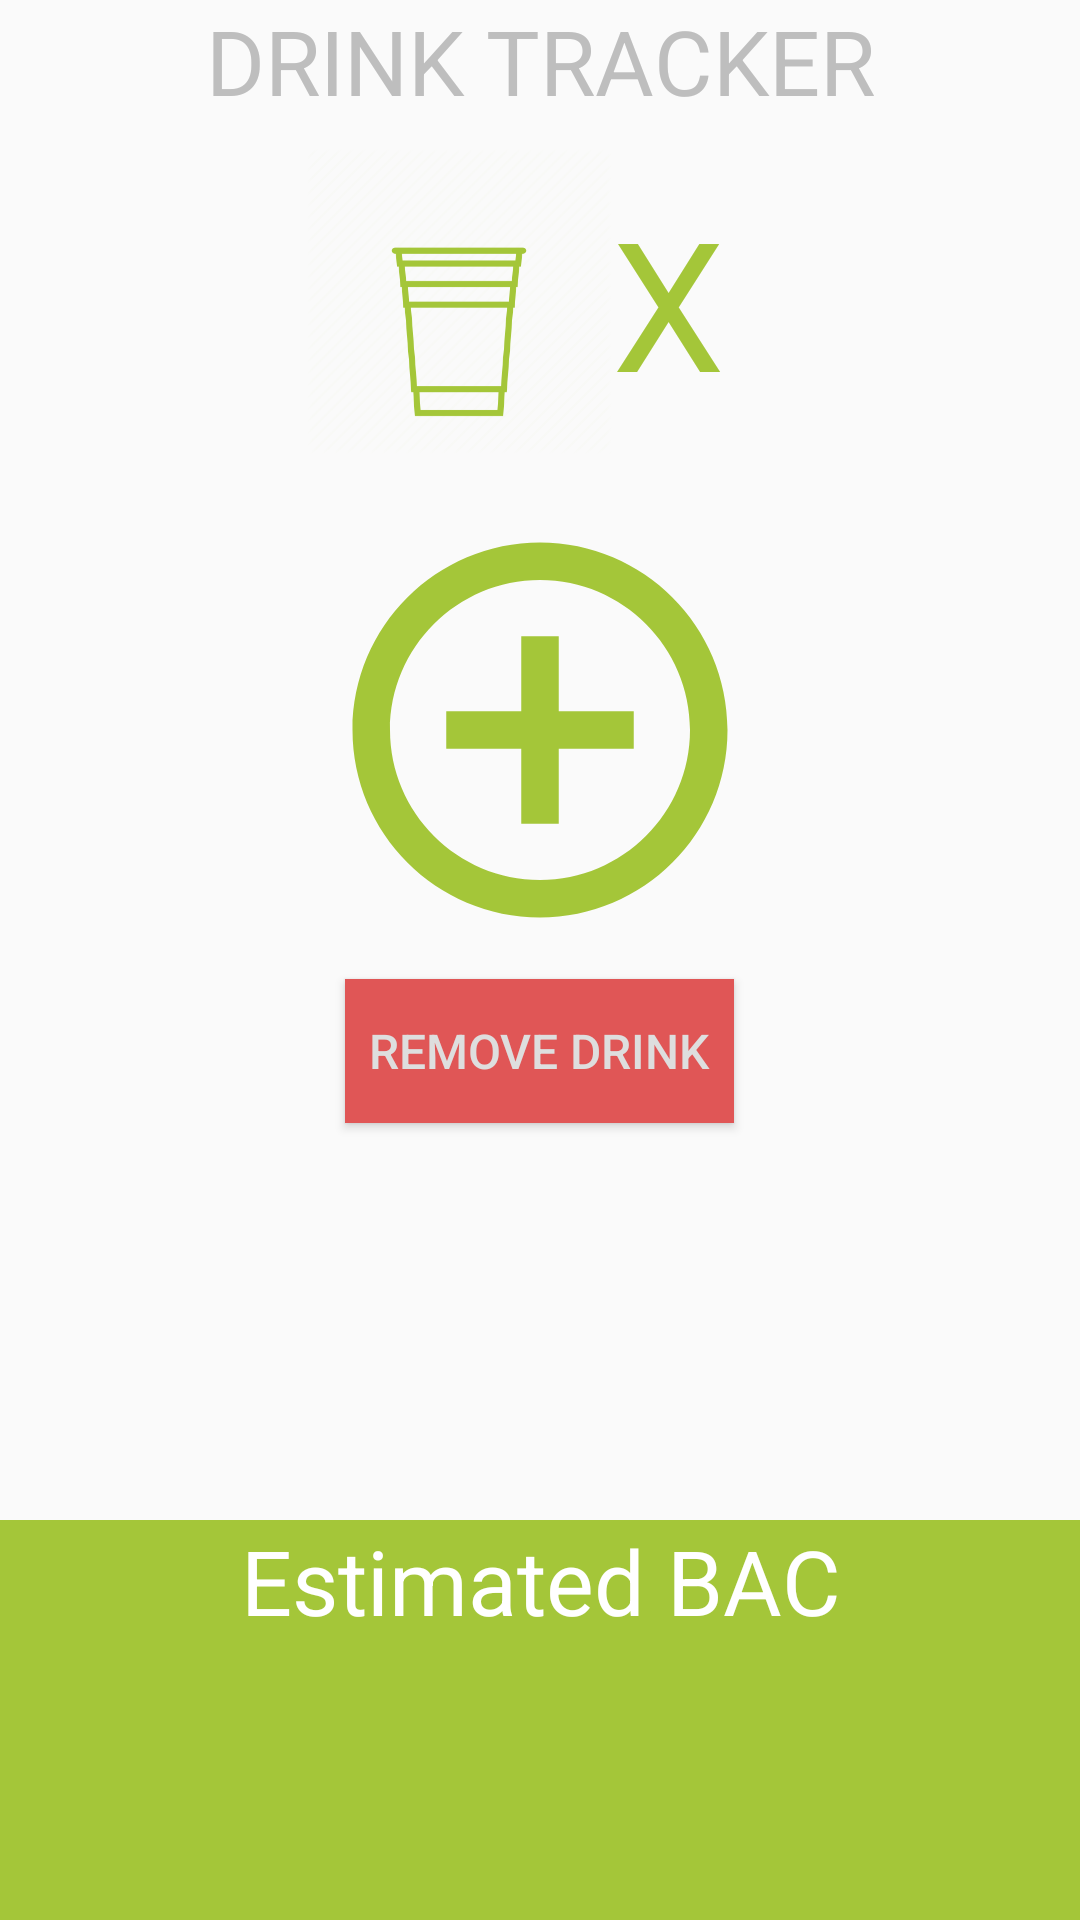

Point at icon controls on the screen. Image size 1080*1920, points as [x,y].
cup: [459,331]
